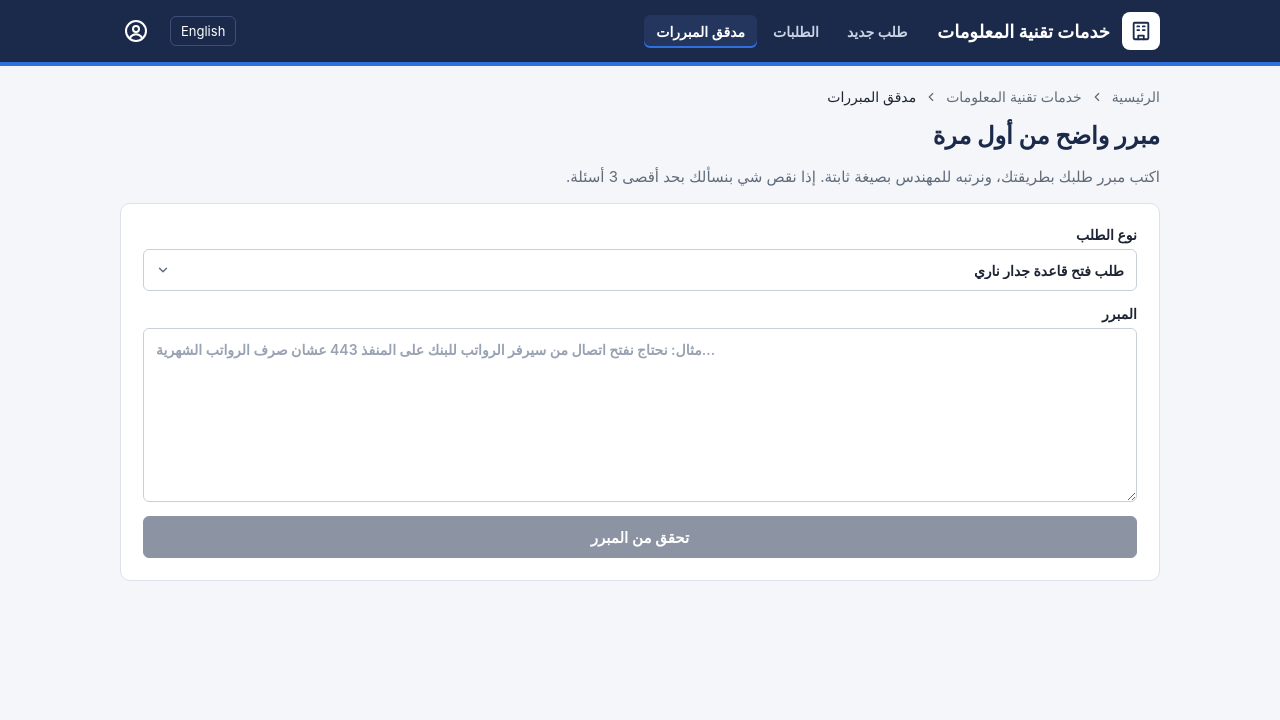
checker: submit, answer the question, get the fixed-format result
The width and height of the screenshot is (1280, 720).
Type "افتحوا 443 من سيرفر الرواتب للبنك" into the text box at (640, 415), box [143,328,1137,502]
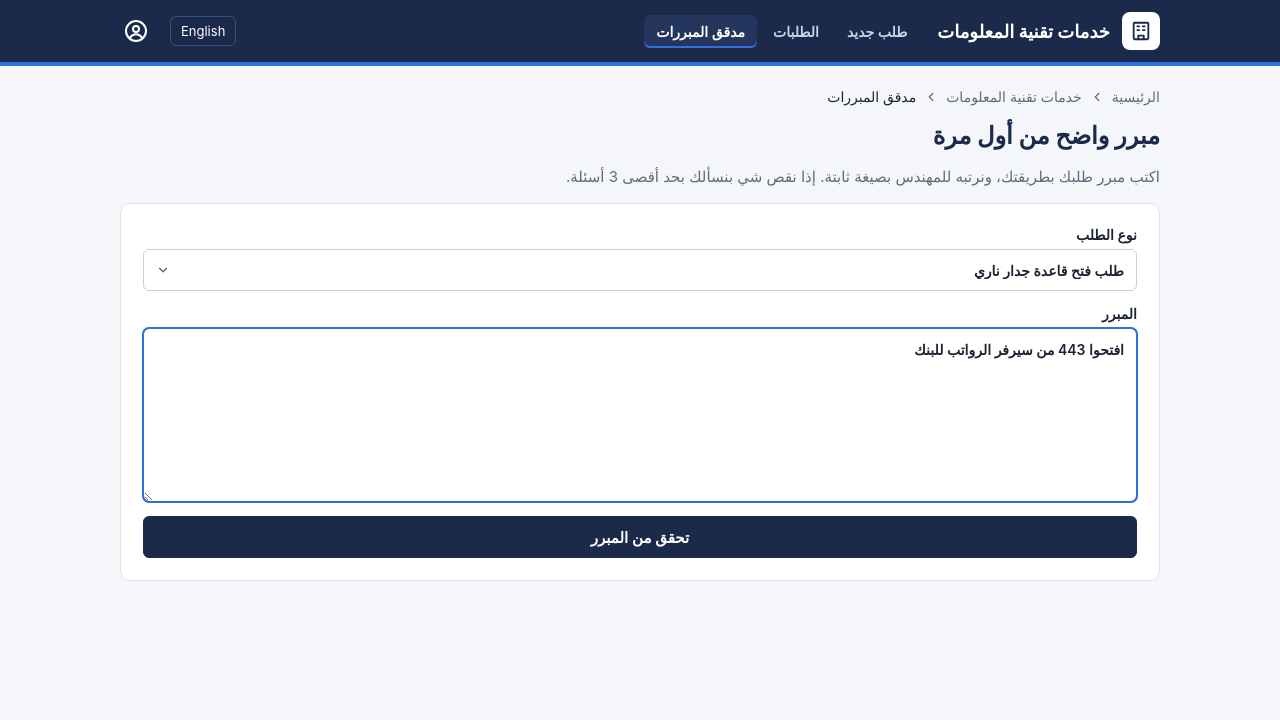
Click the button "تحقق من المبرر" at (640, 537), box [143,516,1137,558]
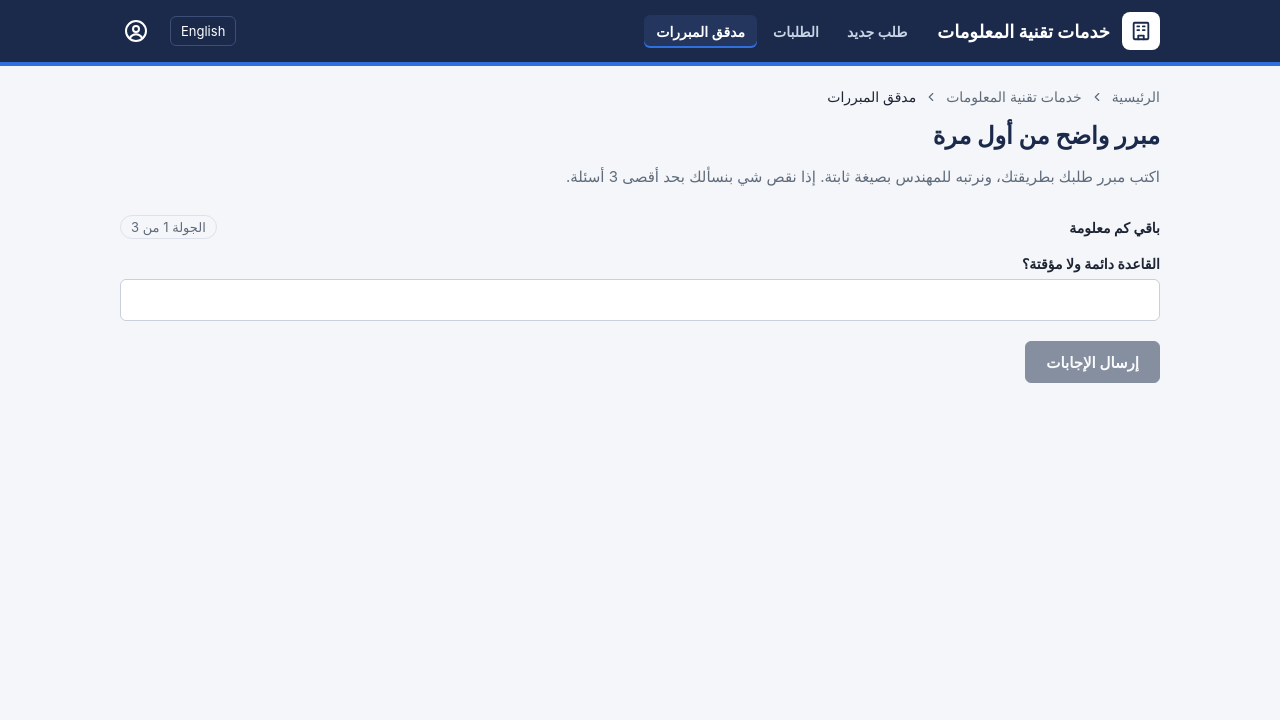
Check: the text "القاعدة دائمة ولا مؤقتة؟" is shown, box [1022,255,1160,272]
Check: the text "الجولة 1 من 3" is shown, box [120,215,217,239]
Type "دائمة" into the field at (640, 300), box [120,279,1160,321]
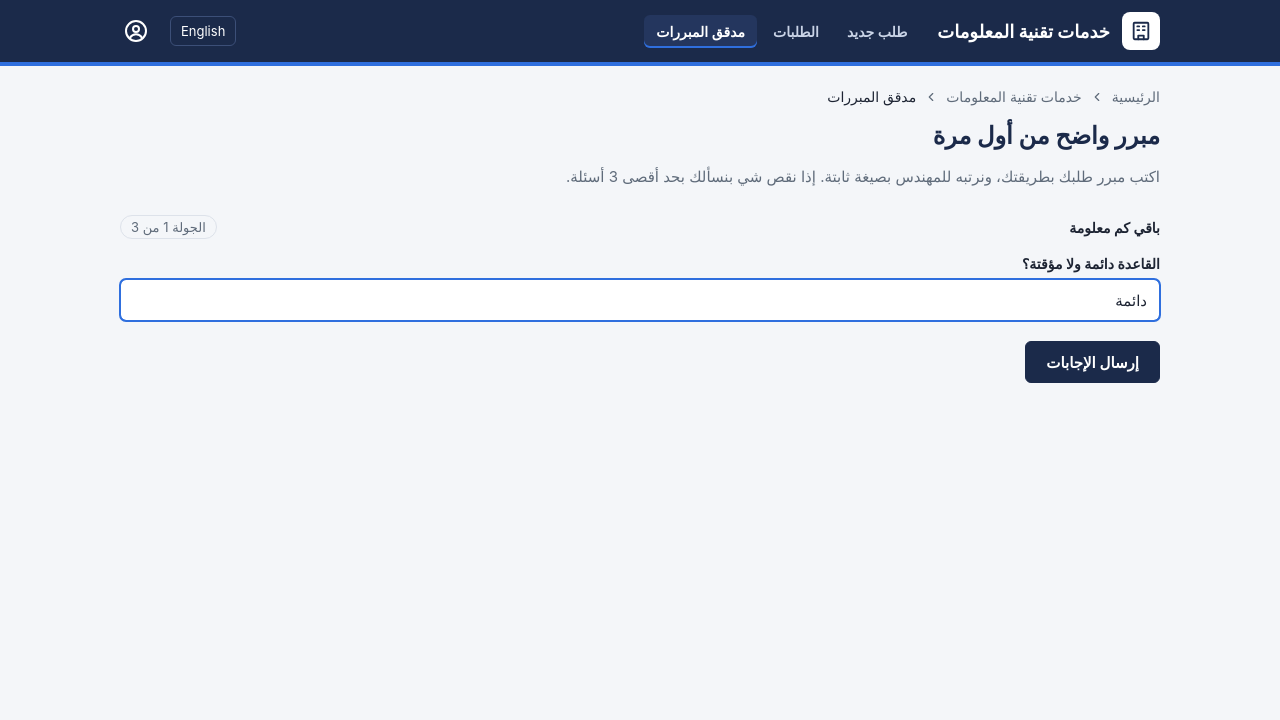
Click the button "إرسال الإجابات" at (1093, 362), box [1025,341,1160,383]
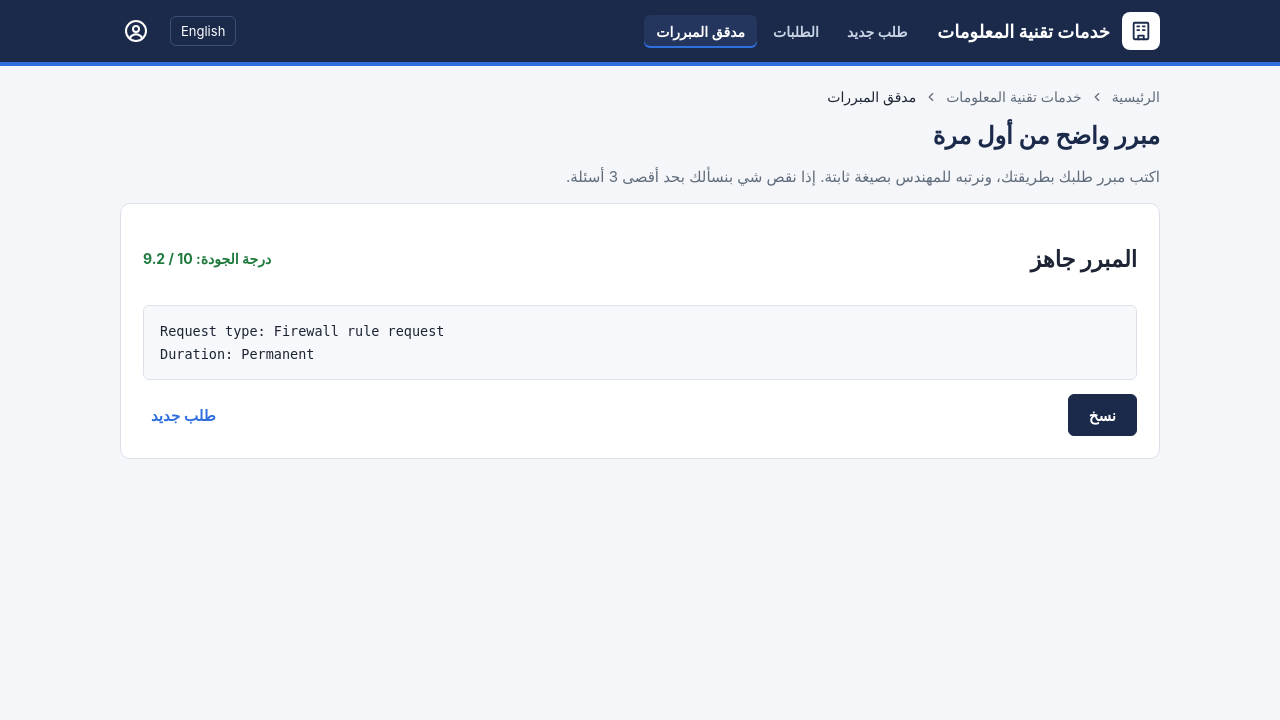
Check: the heading "المبرر جاهز" is shown, box [1030,245,1137,272]
Check: the text "Request type: Firewall rule request Duration: Permanent" is shown, box [143,305,1137,380]
Check: the text "9.2 / 10" is shown, box [143,250,193,267]
